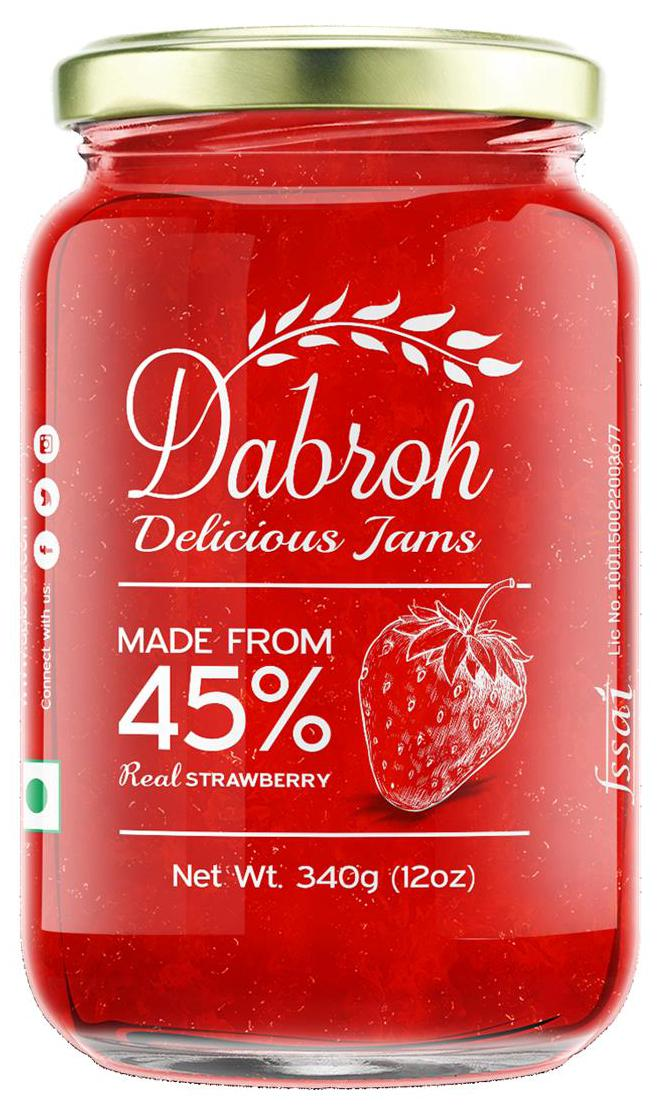fssai: (593, 674, 634, 804)
